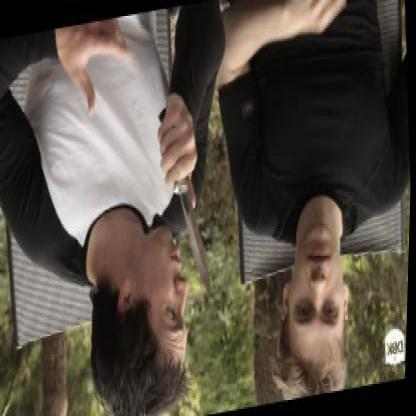knife: (154, 132, 222, 318)
